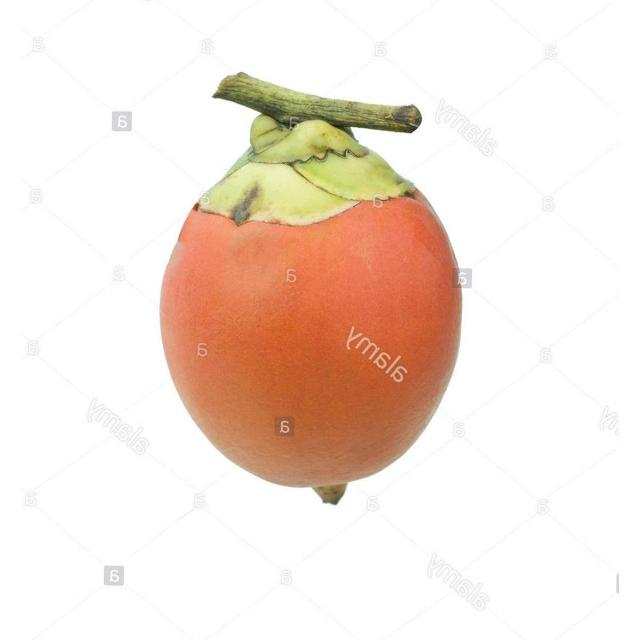good: (158, 75, 464, 502)
